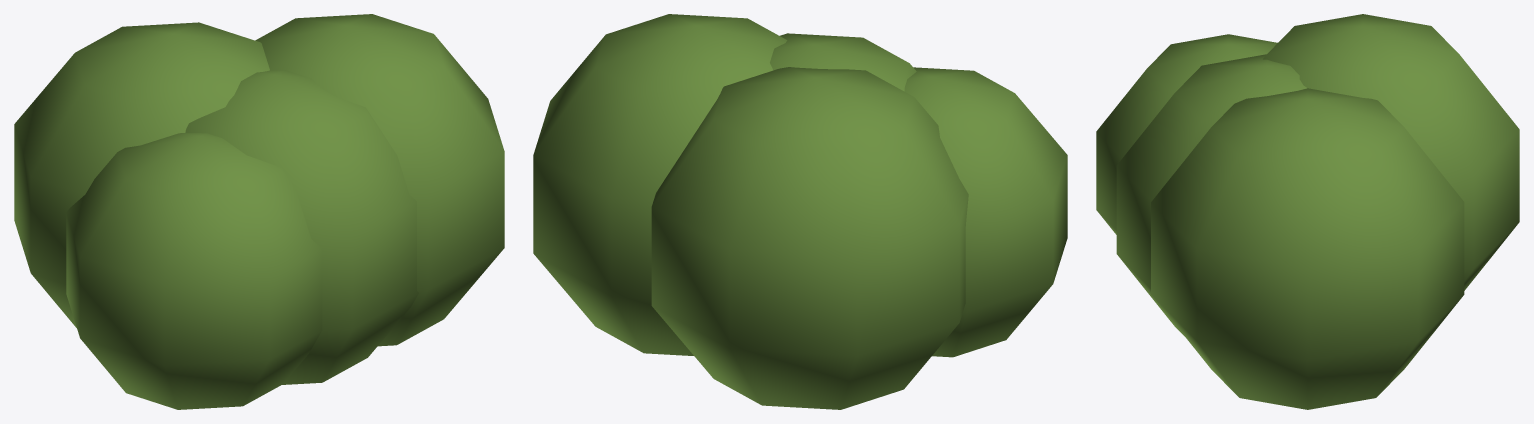
The model's file is prop_bush4_5c55.glb.
3 renders of one model, left to right at view 1: azimuth 30°, elevation 25°; view 2: azimuth 150°, elevation 25°; view 3: azimuth 270°, elevation 25°, orthographic. The views are drawn at different scales.
Visible parts, largest first — view 1: prop_bush4_5c55; view 2: prop_bush4_5c55; view 3: prop_bush4_5c55.
Boxes of the visible parts, bbox=[...] form: prop_bush4_5c55: bbox=[14, 14, 504, 409]; prop_bush4_5c55: bbox=[533, 14, 1067, 409]; prop_bush4_5c55: bbox=[1096, 14, 1519, 409].
Bounding box in the file's own units: 0.6926 × 0.4683 × 0.5917.
1 material, 1 textured.
